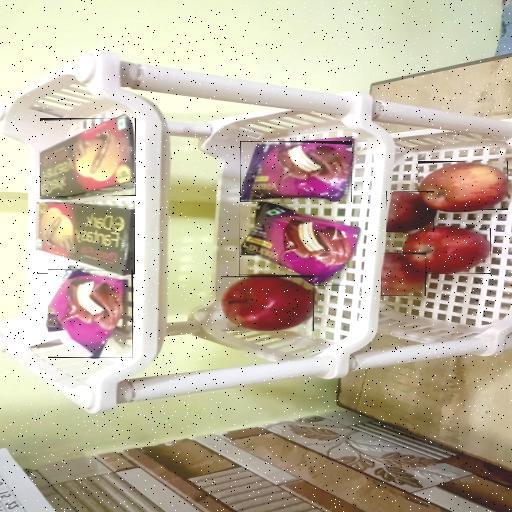Apple: (221, 276, 314, 331), (418, 161, 508, 210), (403, 228, 491, 274), (386, 191, 434, 232), (381, 253, 426, 296)
Choco Fills: (40, 118, 136, 196), (36, 204, 134, 274)
Choco Pie: (239, 204, 357, 286), (48, 270, 133, 358), (240, 141, 352, 202)
